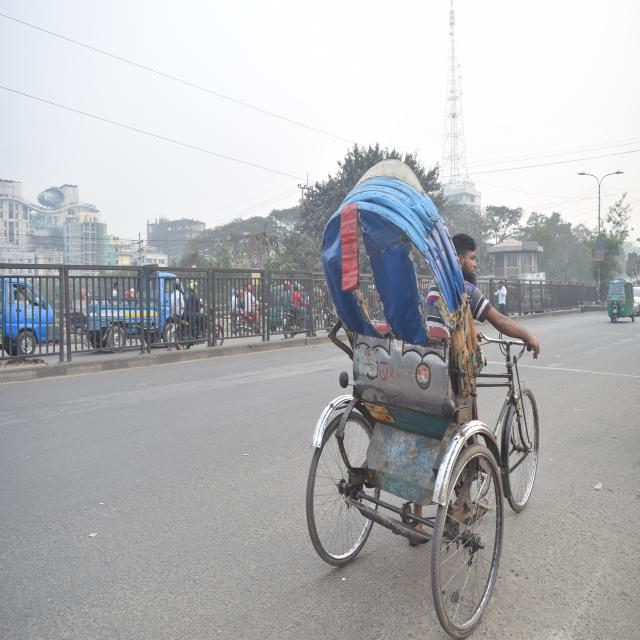car: (86, 261, 183, 350), (0, 260, 60, 360)
motorbike: (170, 292, 225, 355), (281, 292, 313, 342), (232, 298, 270, 340)
